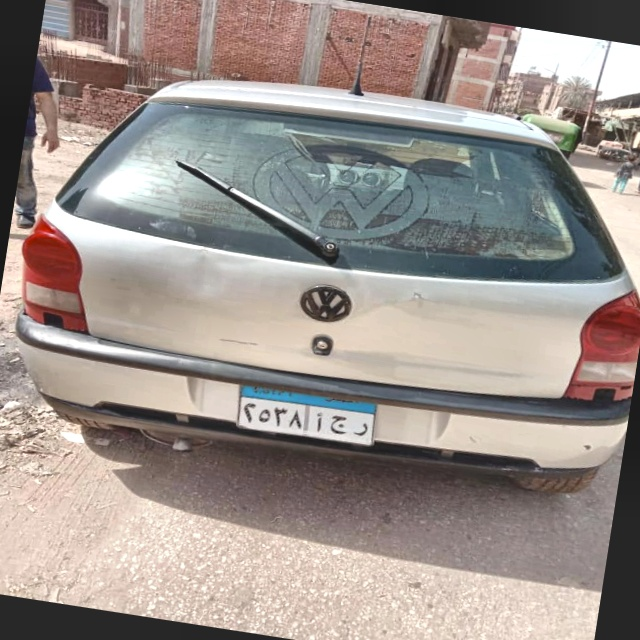License Plate: (233, 378, 380, 450)
